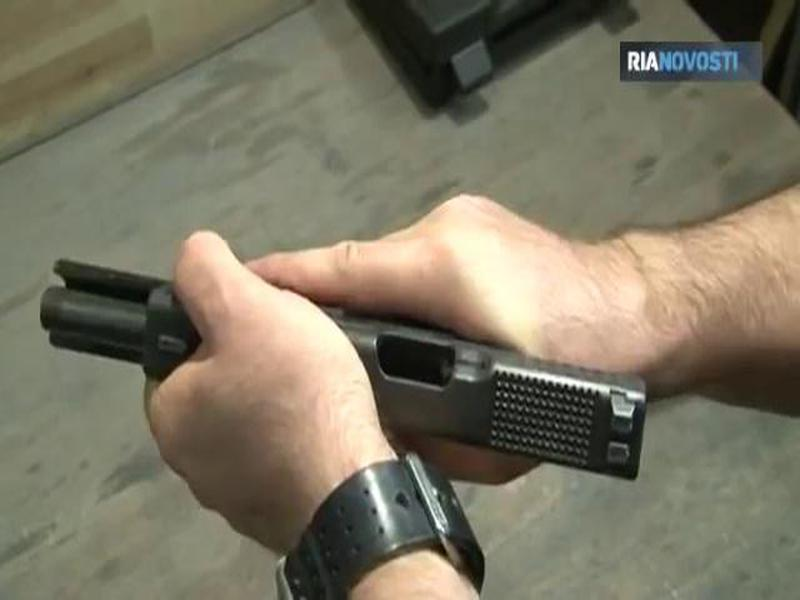Pistola: (36, 218, 668, 515)
